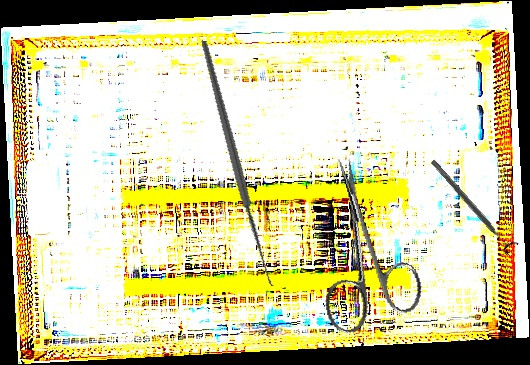Fixation Ring: (425, 154, 520, 256)
Hook Surgical: (142, 39, 343, 290)
Iris Scissors: (293, 147, 429, 337)
